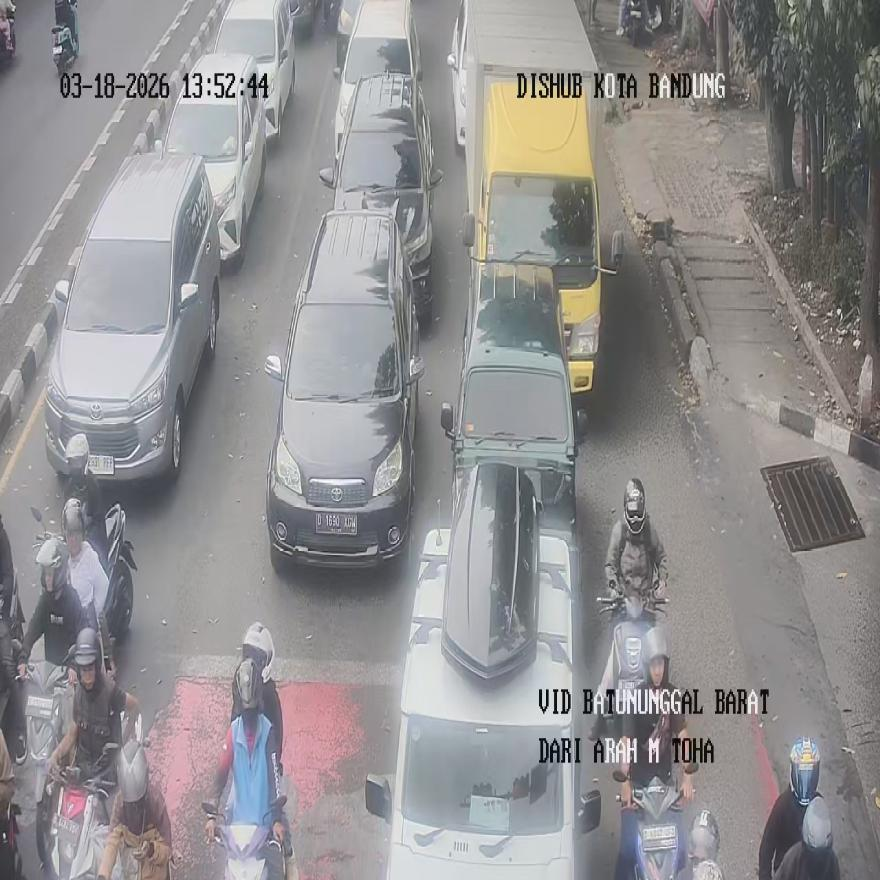Mobil: (365, 492, 602, 878), (43, 153, 221, 484), (264, 212, 424, 568), (460, 77, 621, 414), (318, 72, 443, 323), (154, 52, 265, 266), (333, 0, 423, 167), (213, 0, 294, 142)
Motor: (100, 711, 173, 880), (592, 586, 668, 744), (36, 739, 118, 879), (20, 661, 74, 873), (613, 770, 687, 879), (202, 797, 286, 880), (0, 571, 27, 766), (0, 732, 23, 878), (52, 0, 78, 73), (618, 0, 644, 44), (0, 1, 15, 61)
